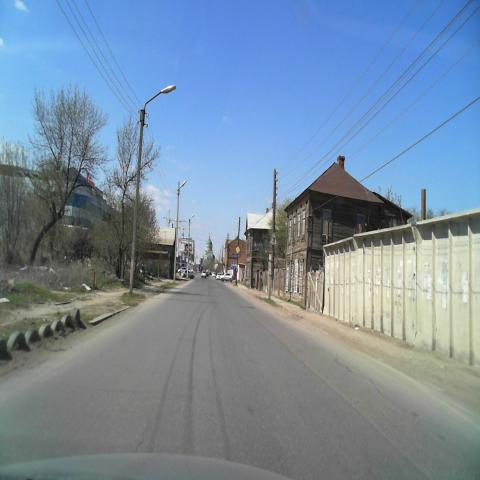1_21: (270, 232, 278, 246)
